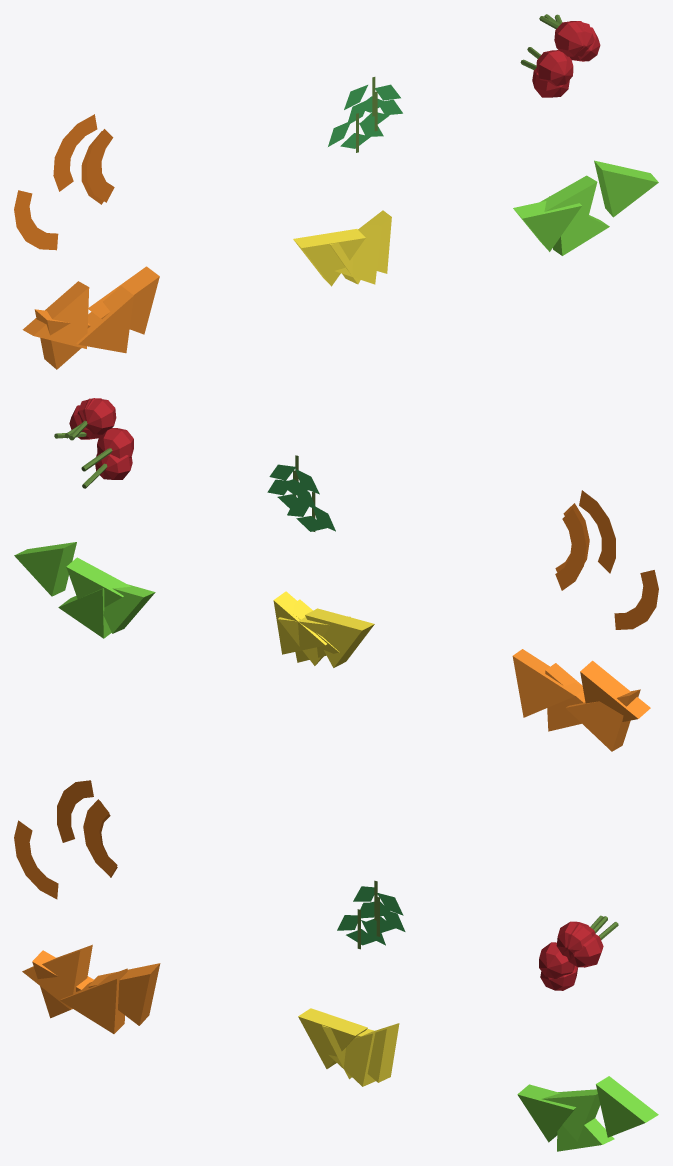
File: GarnishProps.fbx
The picture shows the model from 3 angles, top to bottom: view 1: azimuth 30°, elevation 25°; view 2: azimuth 150°, elevation 25°; view 3: azimuth 330°, elevation 25°; orthographic projection.
Visible parts, largest first — view 1: OrangeWedge_03.001, OrangeWedge_02.001, LimeWedge_02.001, LemonWedge_01.001, OrangeWedge_04.001, LimeWedge_01.001, LimeWedge_04.001, LemonWedge_04.001, CitrusPeel_02.001, CitrusPeel_03.001, OrangeWedge_01.001, CitrusPeel_04.001 (+5 smaller); view 2: OrangeWedge_04.001, LimeWedge_02.001, OrangeWedge_01.001, OrangeWedge_03.001, LemonWedge_01.001, LimeWedge_04.001, LemonWedge_03.001, LimeWedge_03.001, LimeWedge_01.001, CitrusPeel_01.001, CitrusPeel_03.001, OrangeWedge_02.001 (+6 smaller); view 3: OrangeWedge_02.001, LimeWedge_02.001, OrangeWedge_04.001, OrangeWedge_03.001, LemonWedge_01.001, LimeWedge_01.001, LimeWedge_04.001, CitrusPeel_03.001, LemonWedge_04.001, LemonWedge_03.001, CitrusPeel_04.001, CitrusPeel_02.001 (+5 smaller).
Part boxes in pixels (<box>): OrangeWedge_03.001: <box>22,281,89,348</box>; OrangeWedge_02.001: <box>76,286,133,353</box>; LimeWedge_02.001: <box>594,160,658,217</box>; LemonWedge_01.001: <box>293,229,365,286</box>; OrangeWedge_04.001: <box>88,266,159,334</box>; LimeWedge_01.001: <box>513,201,581,251</box>; LimeWedge_04.001: <box>540,175,597,236</box>; LemonWedge_04.001: <box>335,224,381,284</box>; CitrusPeel_02.001: <box>53,114,97,191</box>; CitrusPeel_03.001: <box>14,190,58,250</box>; OrangeWedge_01.001: <box>34,309,90,369</box>; CitrusPeel_04.001: <box>87,129,114,202</box>; OrangeWedge_04.001: <box>512,649,583,717</box>; LimeWedge_02.001: <box>14,542,76,596</box>; OrangeWedge_01.001: <box>565,689,640,751</box>; OrangeWedge_03.001: <box>580,660,650,721</box>; LemonWedge_01.001: <box>305,608,374,667</box>; LimeWedge_04.001: <box>66,557,130,607</box>; LemonWedge_03.001: <box>273,591,326,654</box>; LimeWedge_03.001: <box>58,588,111,638</box>; LimeWedge_01.001: <box>103,584,155,633</box>; CitrusPeel_01.001: <box>555,508,586,590</box>; CitrusPeel_03.001: <box>614,570,658,629</box>; OrangeWedge_02.001: <box>545,663,585,731</box>; OrangeWedge_02.001: <box>60,968,127,1033</box>; LimeWedge_02.001: <box>596,1076,658,1137</box>; OrangeWedge_04.001: <box>88,963,160,1025</box>; OrangeWedge_03.001: <box>22,944,92,1009</box>; LemonWedge_01.001: <box>298,1008,367,1068</box>; LimeWedge_01.001: <box>517,1084,575,1142</box>; LimeWedge_04.001: <box>542,1089,600,1141</box>; CitrusPeel_03.001: <box>14,820,58,899</box>; LemonWedge_04.001: <box>329,1029,379,1086</box>; LemonWedge_03.001: <box>367,1023,399,1082</box>; CitrusPeel_04.001: <box>83,799,117,876</box>; CitrusPeel_02.001: <box>57,780,93,842</box>.
Size of the model in its own units: 0.4084 by 0.1562 by 0.0466.
